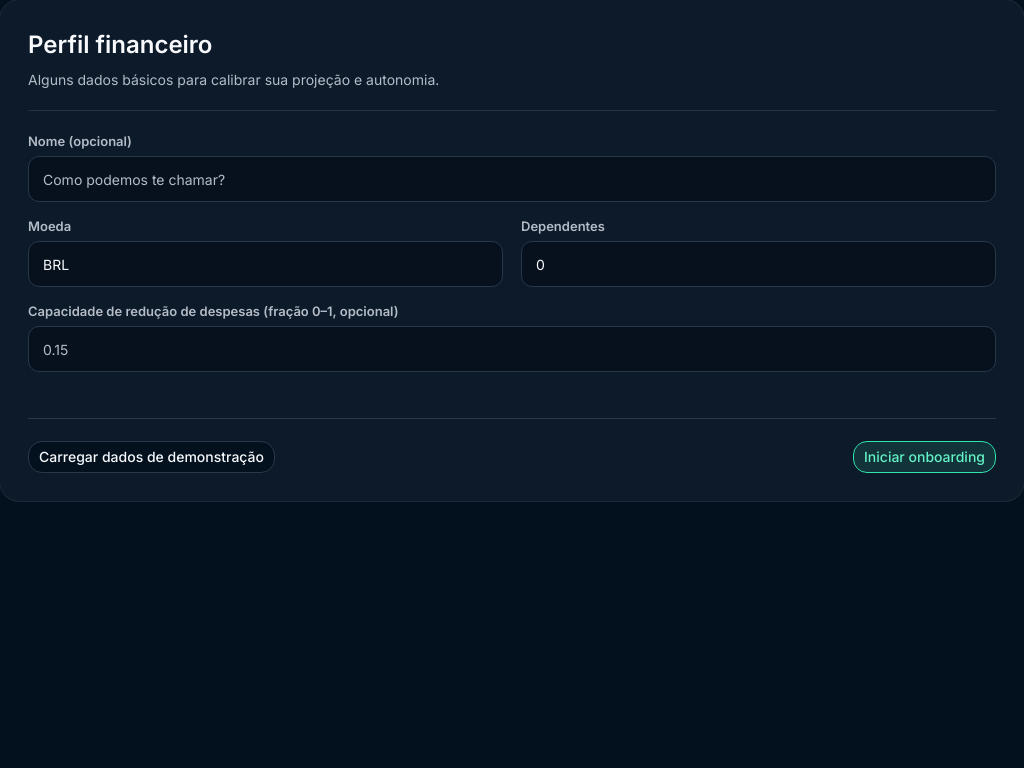
it: ProfileStep › shows a validation error when the currency field is invalid
Replace the text in the field labelled "Moeda" with "XY": (266, 264) [28,241,503,287]
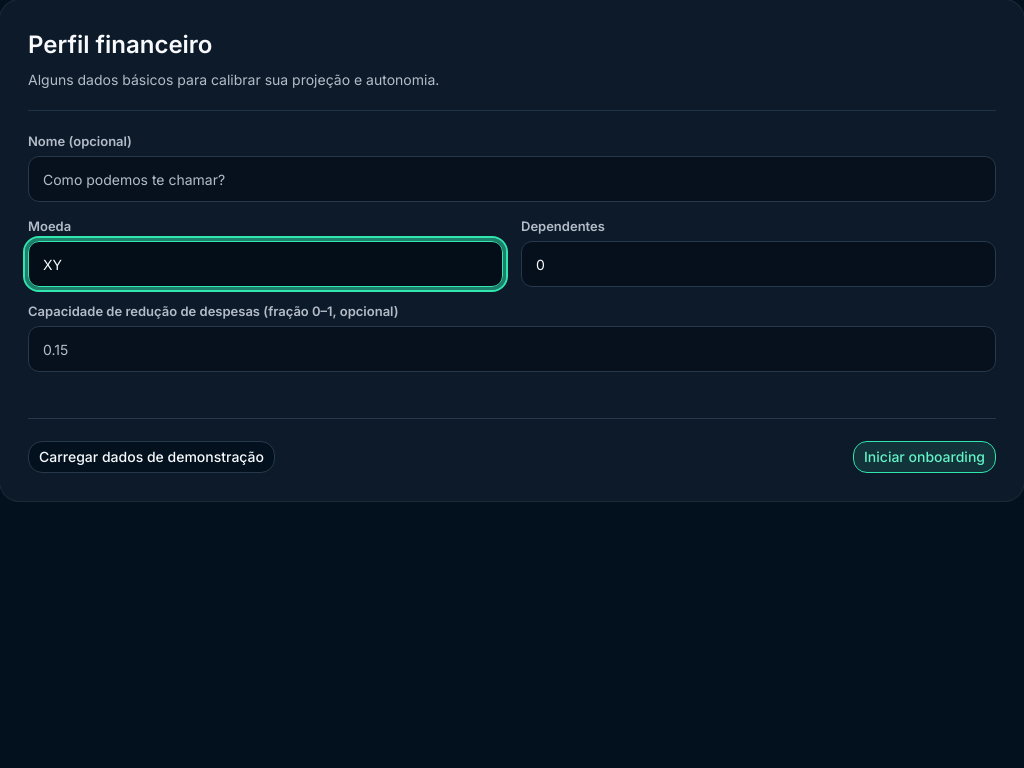
Click the button "Iniciar onboarding": (924, 457) [853,441,996,473]
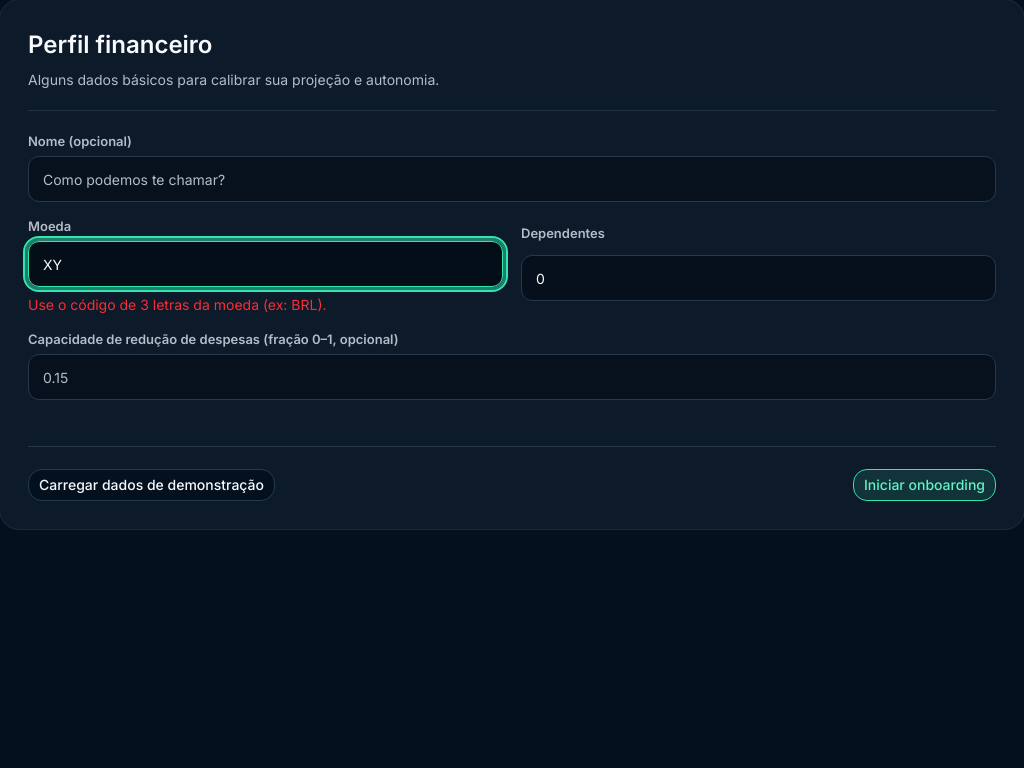
Now the text "Use o código de 3 letras da moeda (ex: BRL)." is shown, box [28,296,327,313]
